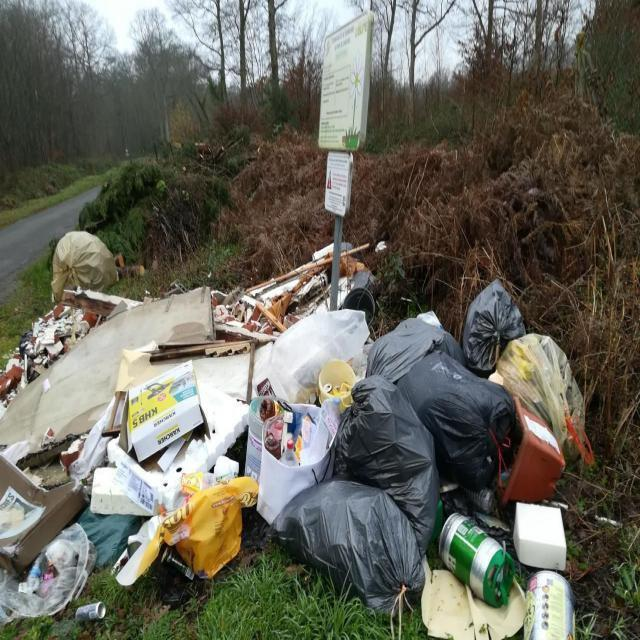Trashbag: (279, 493, 437, 616), (332, 393, 438, 510), (424, 373, 514, 476), (362, 322, 455, 390), (458, 280, 524, 371)
